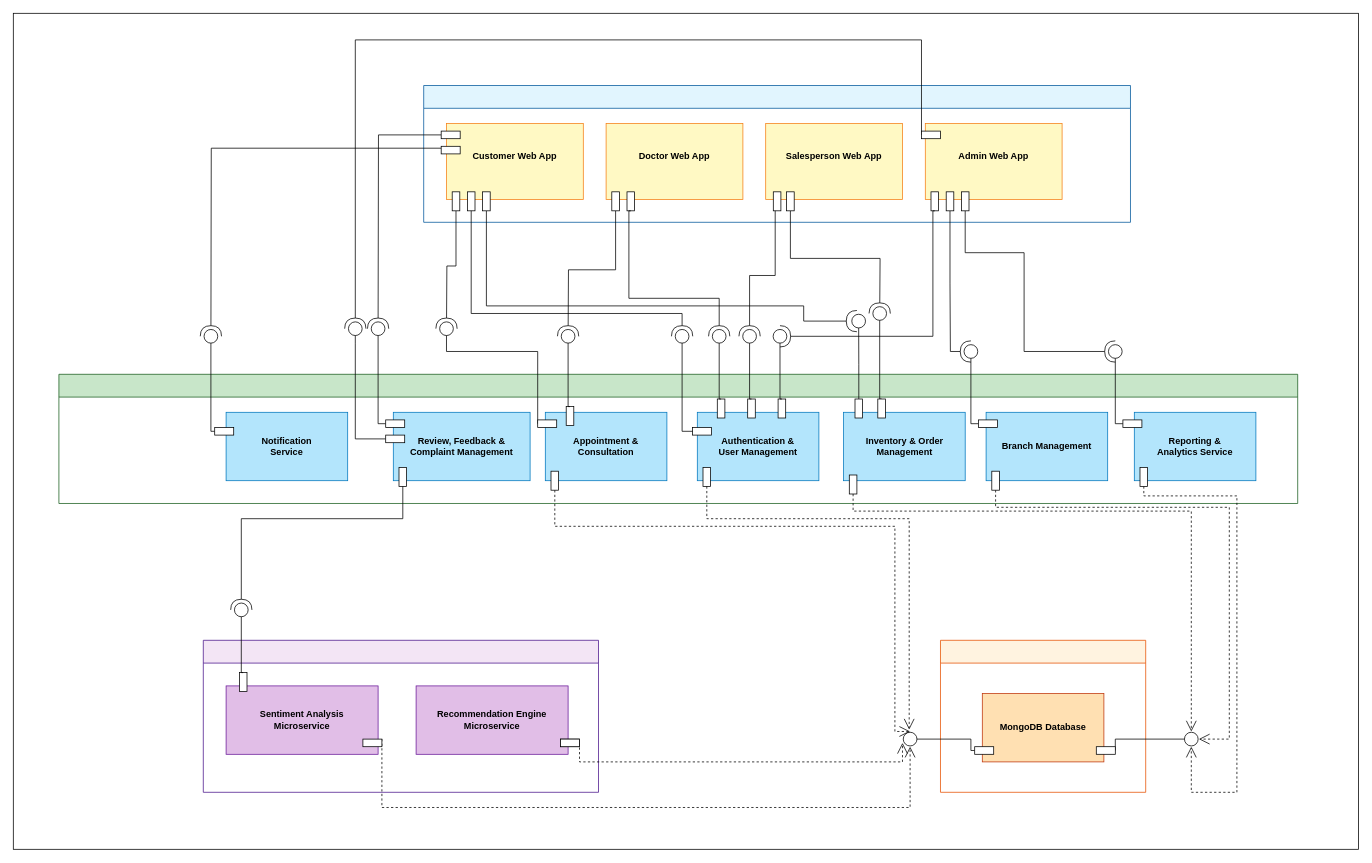
The diagram is 1372 pixels wide and 863 high, and some of its shapes have lost their labels. Each missing label, with the box of its shape:
AI/ML Microservices: (203, 640, 598, 792)
Backend Services Layer (Node.js + Express.js): (58, 374, 1298, 504)
Data Storage: (940, 640, 1146, 792)
Frontend Layer: (423, 85, 1130, 222)
